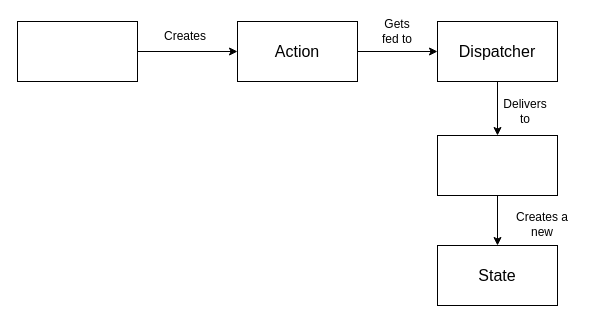
Image size: 590x323. Some labels were removed from this diagram. Each missing label, with the centre of its shape:
"Action Creator" belongs at point (77, 51).
"Reducer" belongs at point (497, 165).
